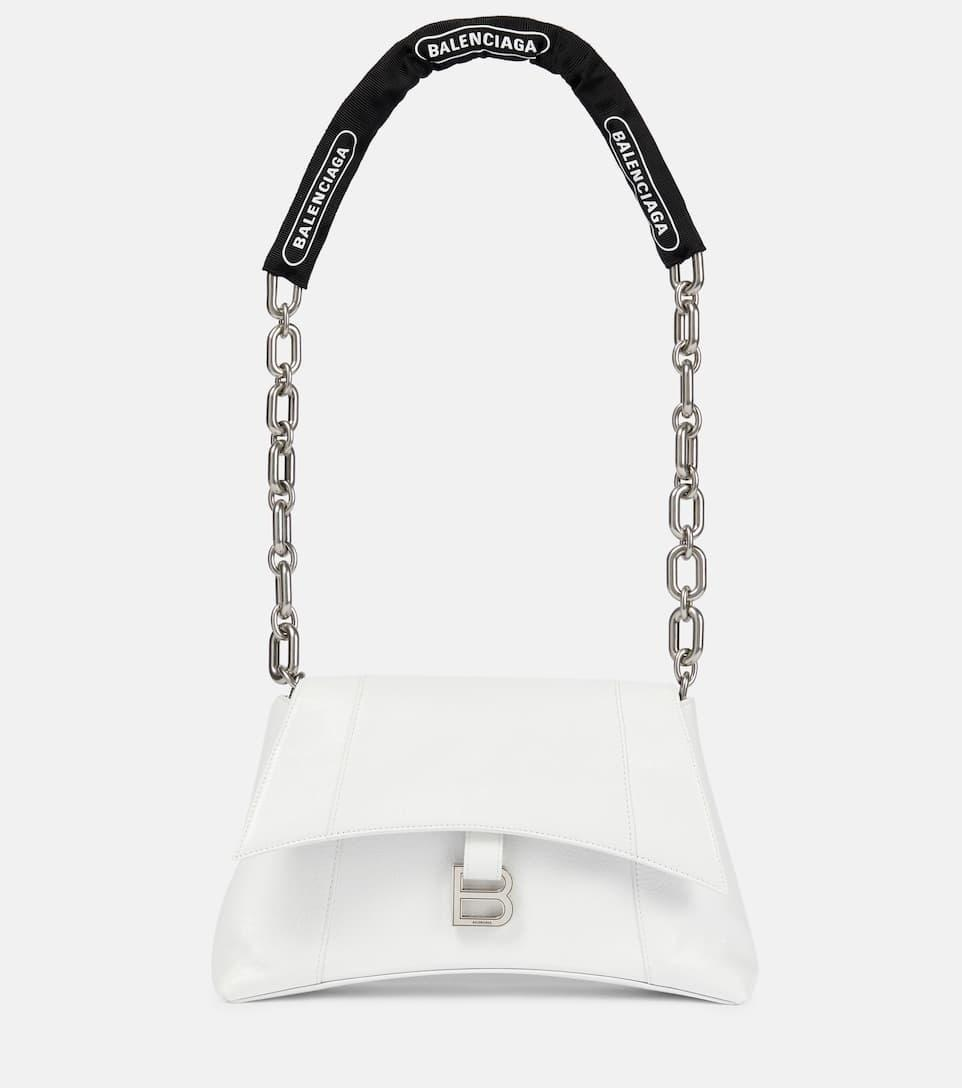BALENCIAGA: (612, 130, 669, 236), (293, 147, 350, 249), (426, 31, 536, 58)
